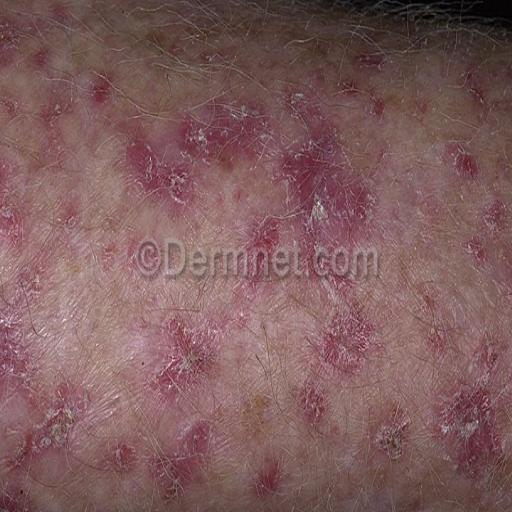Skin_Lesion: (282, 127, 374, 287), (126, 105, 195, 215), (437, 371, 503, 482), (146, 308, 216, 406), (181, 97, 267, 176), (146, 414, 204, 504), (319, 310, 373, 382), (245, 206, 283, 306), (368, 393, 412, 468), (0, 166, 26, 260), (0, 309, 25, 401), (459, 68, 493, 122), (12, 260, 44, 313), (445, 137, 481, 183), (0, 0, 22, 74), (256, 444, 286, 498), (300, 374, 328, 429), (106, 424, 132, 476), (482, 191, 510, 239), (427, 311, 452, 360), (40, 91, 72, 127), (0, 480, 34, 512), (89, 66, 114, 109), (355, 51, 390, 81), (59, 191, 84, 229), (464, 232, 490, 265), (0, 88, 22, 126), (365, 88, 388, 124), (47, 1, 73, 27)
